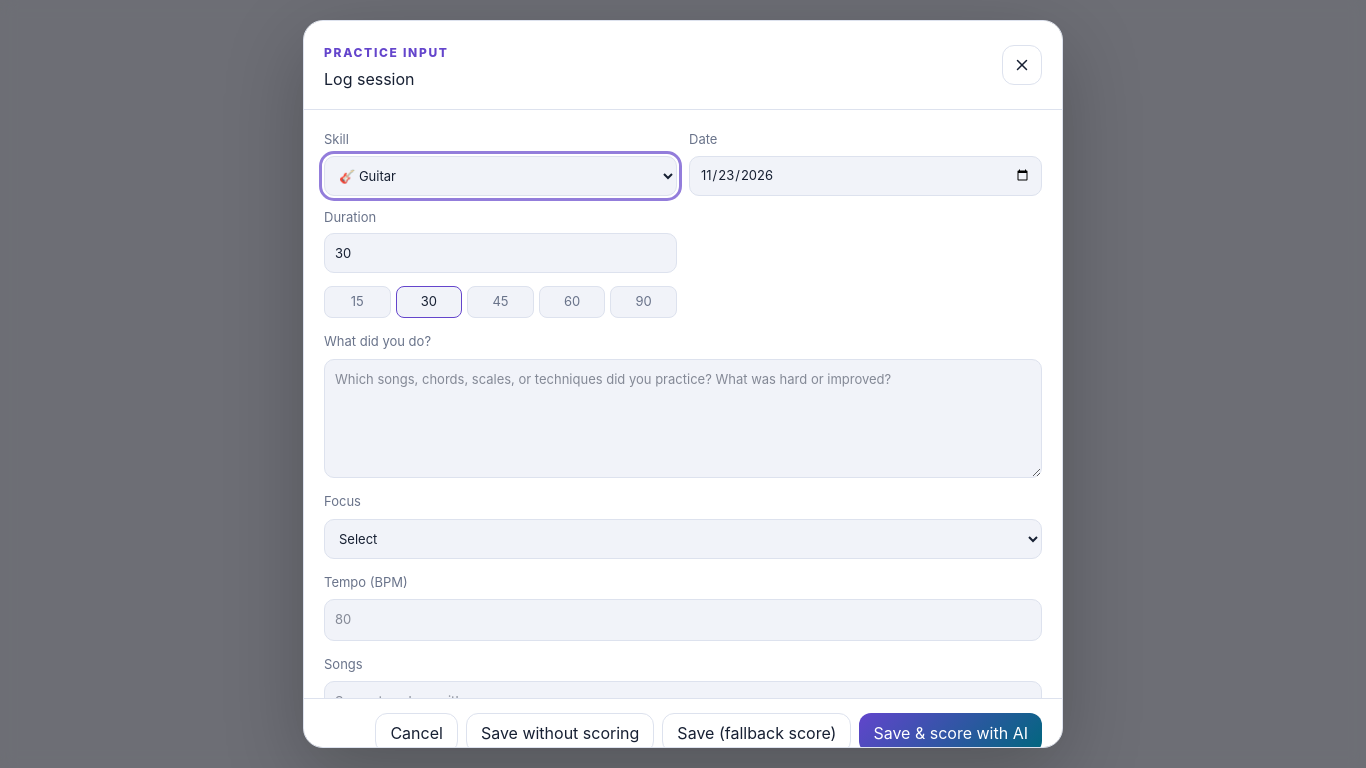
Test: LogSessionModal › sends an enabled session to AI and stores the validated score
Type "Practiced chord changes and reviewed a recording" into the text box labelled "What did you do?" at point(683, 418), box [324,358,1042,478]
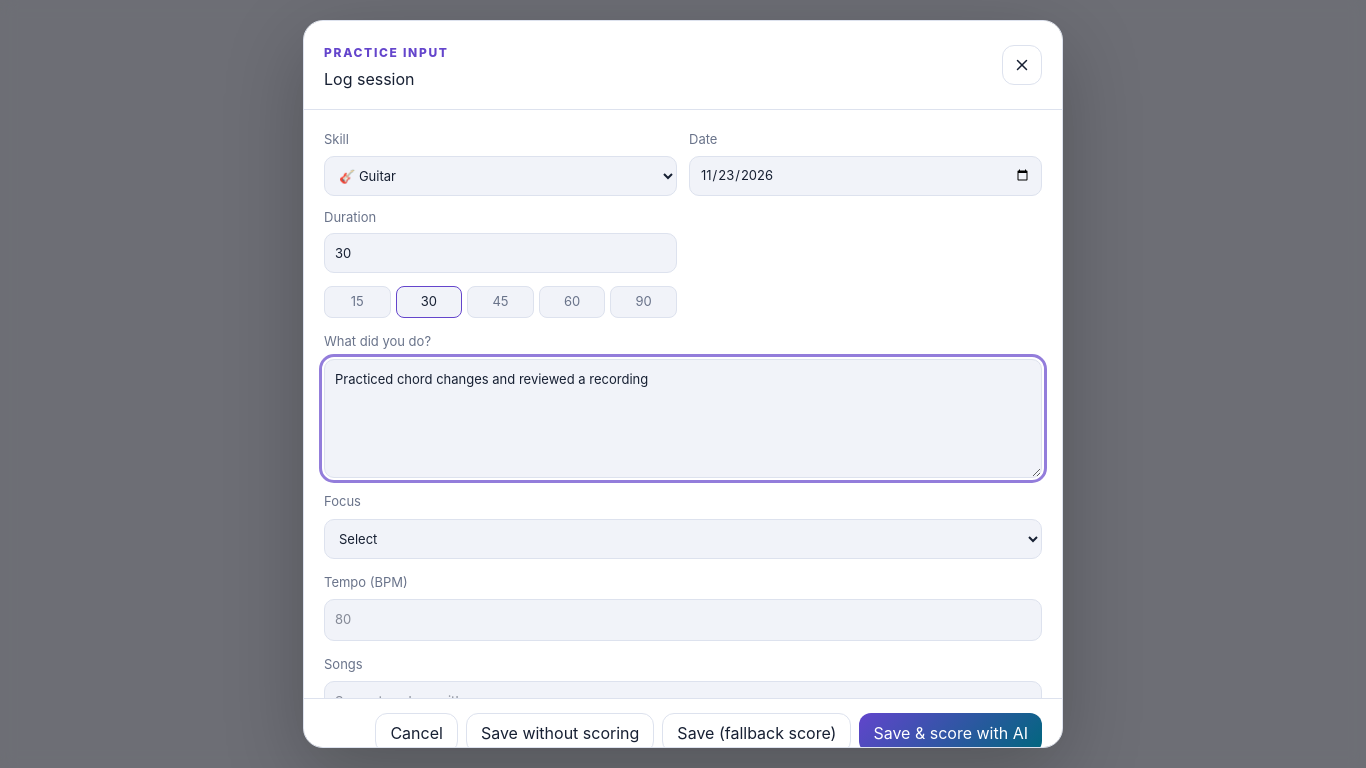
Click the button "Save & score with AI" at point(951, 733), box [859,713,1042,753]
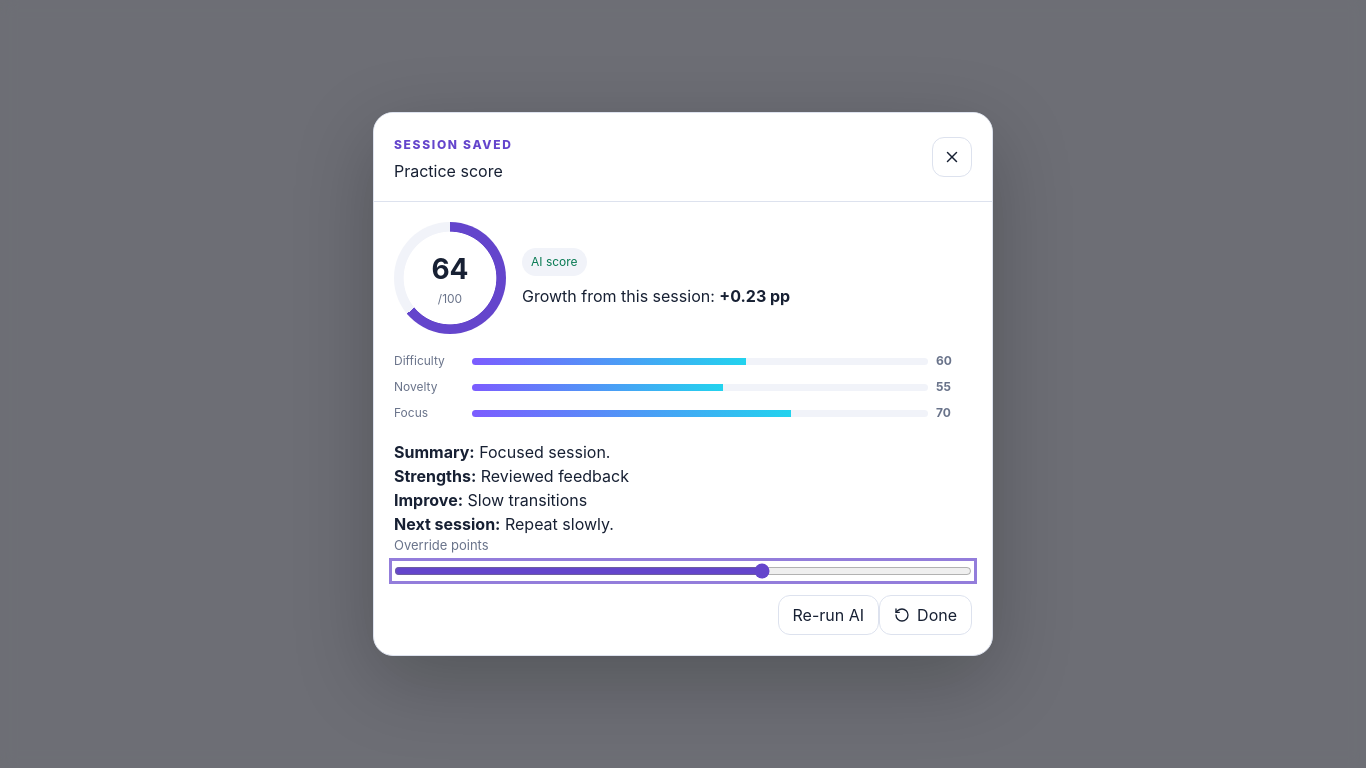
Now the text "AI score" is shown, box [522,248,587,276]
